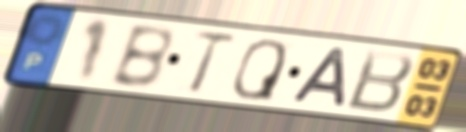1: (76, 17, 111, 86)
A: (287, 45, 350, 110)
B: (342, 47, 418, 116), (106, 24, 176, 92)
Q: (230, 36, 290, 103)
T: (186, 29, 240, 97)
